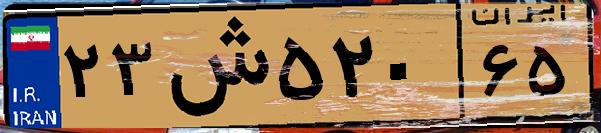0: (385, 28, 445, 110)
2: (330, 28, 385, 110), (57, 26, 110, 100)
3: (110, 28, 158, 98)
5: (270, 28, 330, 110), (525, 38, 570, 115)
6: (475, 38, 525, 113)
ش: (158, 12, 270, 120)
